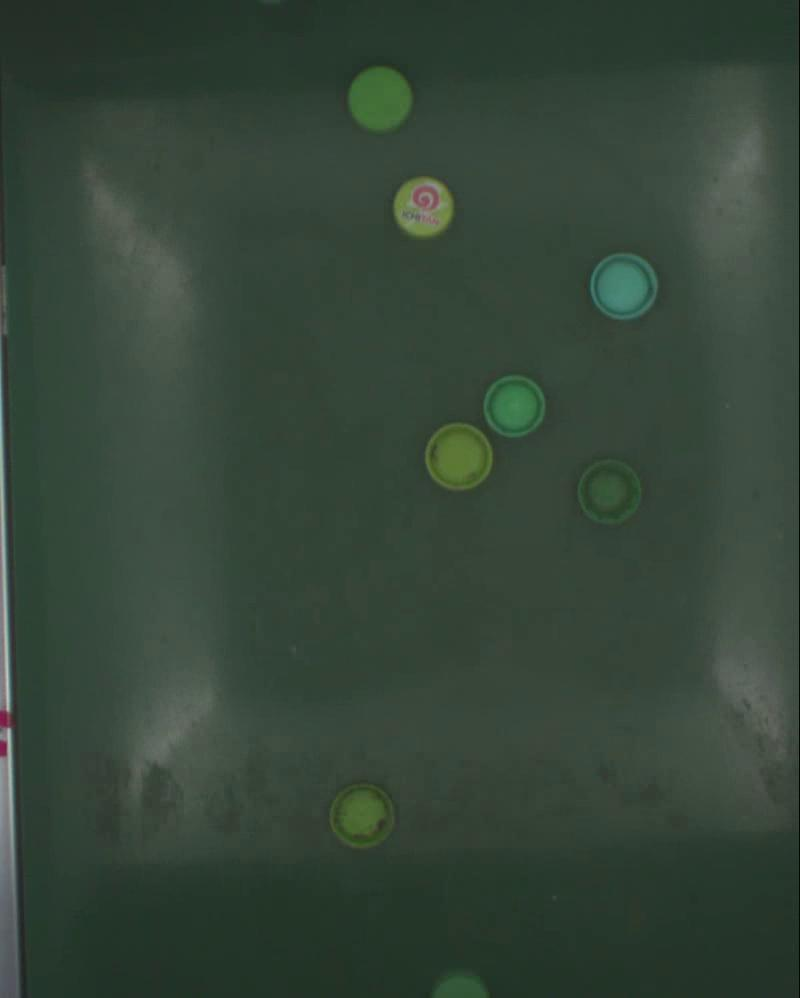light_blue: (590, 254, 659, 320)
others: (424, 424, 493, 492), (347, 67, 415, 133), (574, 460, 642, 526), (328, 786, 396, 849), (482, 375, 548, 438), (392, 178, 456, 240)
